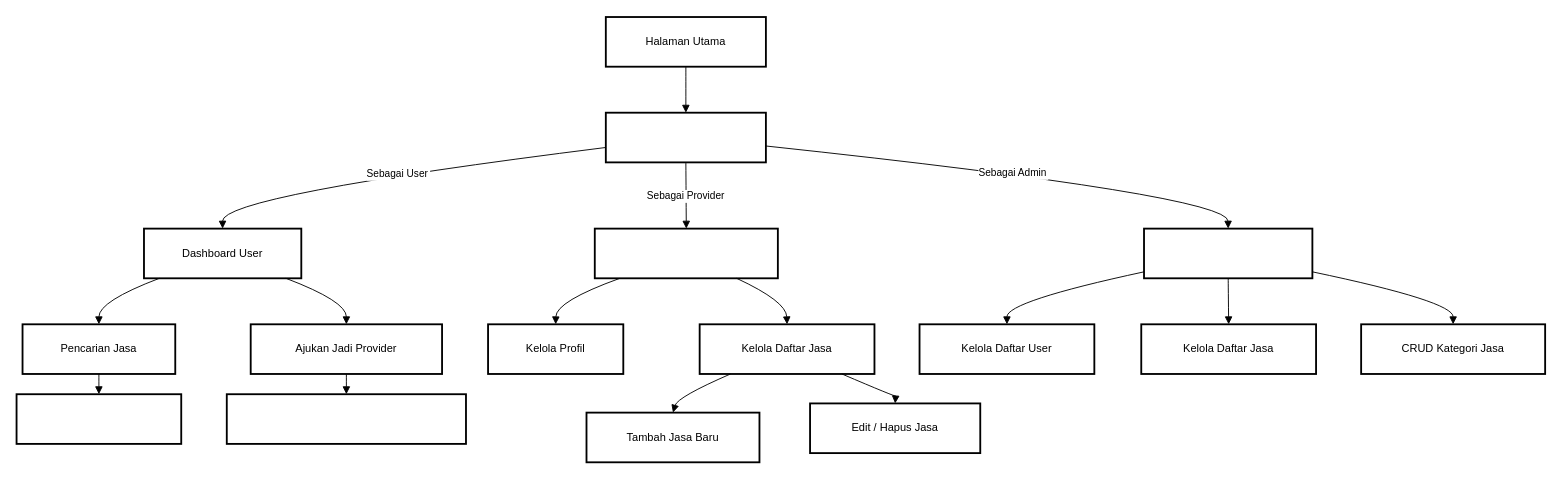
This 1562x478 diagram has some shape labels left out. Each missing label, with the box of its shape:
Dashboard Admin: (1143, 227, 1313, 279)
Dashboard Provider: (593, 227, 778, 279)
Formulir Pendaftaran Provider: (225, 393, 466, 444)
Lihat Detail Jasa: (15, 393, 182, 444)
Login / Register: (604, 111, 766, 163)
